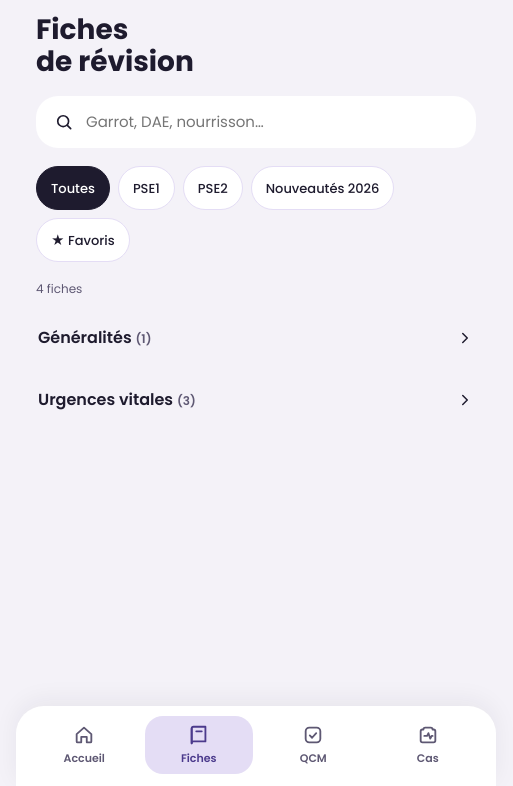
Test: Fiches › filtre par niveau et regroupe par chapitre
Expected: the message reads "4 fiches", [36,280,82,297]
Click the button "PSE2".
click(213, 188)  # box [183,166,243,210]
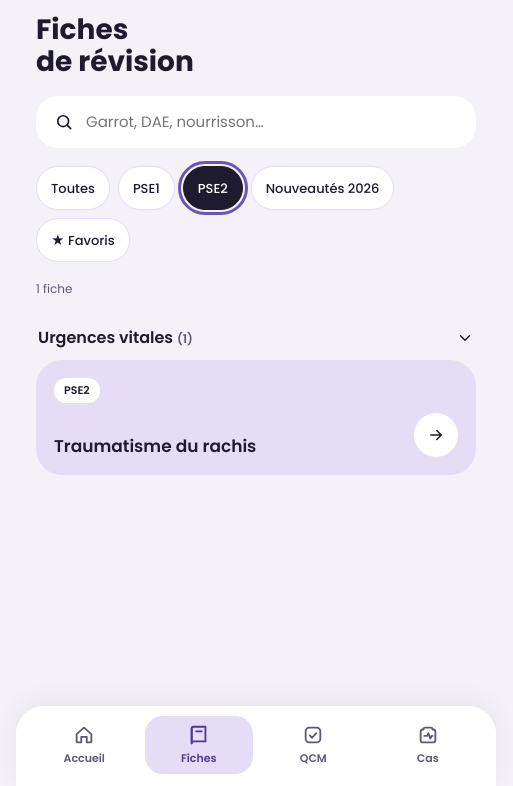
Now the message reads "1 fiche", box [36,280,72,297]
Now the link "PSE2 Traumatisme du rachis" is shown, box [36,360,476,475]
Now the heading "Généralités" is gone
